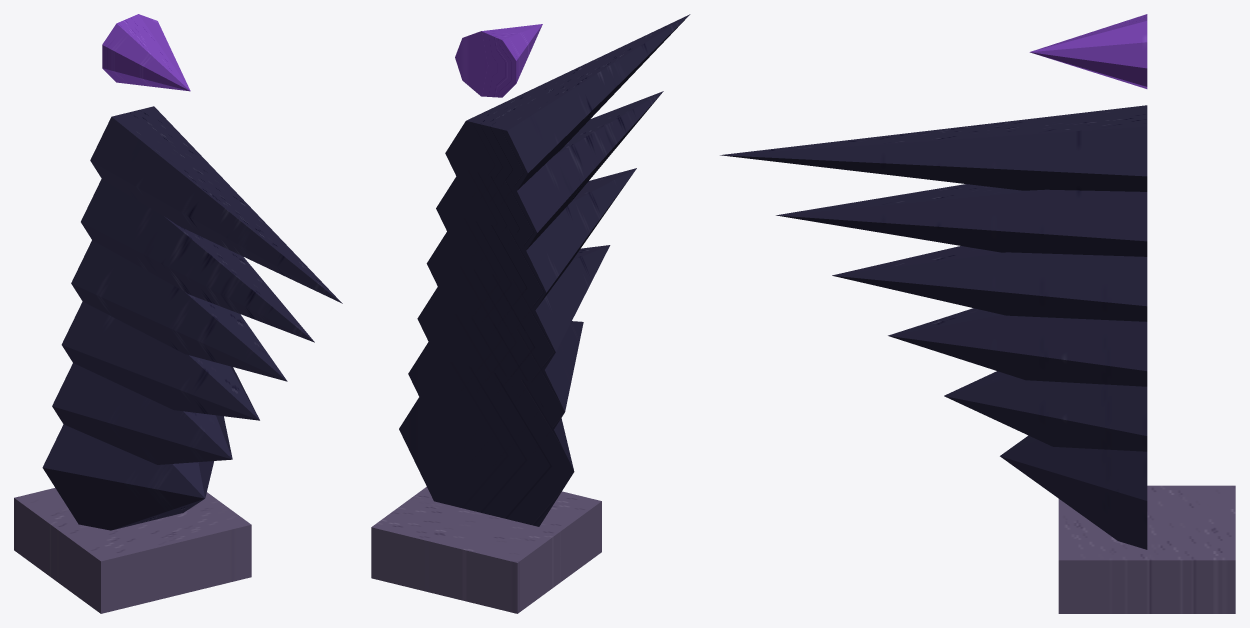
Rendered from spirit_obelisk_lod0.glb.
The picture shows the model from 3 angles, left to right: view 1: azimuth 30°, elevation 25°; view 2: azimuth 150°, elevation 25°; view 3: azimuth 270°, elevation 25°; orthographic projection. The views are drawn at different scales.
Visible parts, largest first — view 1: ash_0, obsidian_6, obsidian_5, obsidian_4, obsidian_1, obsidian_3, obsidian_2, rift_7; view 2: obsidian_1, ash_0, obsidian_3, obsidian_6, obsidian_4, obsidian_5, obsidian_2, rift_7; view 3: obsidian_6, ash_0, obsidian_5, obsidian_4, obsidian_3, obsidian_2, obsidian_1, rift_7.
Boxes of the visible parts, box(x1,y1,x2,y2) form: ash_0: box(14, 488, 251, 613); obsidian_6: box(90, 106, 342, 303); obsidian_5: box(81, 179, 314, 342); obsidian_4: box(71, 240, 287, 381); obsidian_1: box(42, 424, 213, 530); obsidian_3: box(61, 301, 259, 420); obsidian_2: box(52, 363, 232, 464); rift_7: box(102, 14, 190, 91); obsidian_1: box(399, 360, 574, 526); ash_0: box(371, 487, 601, 613); obsidian_3: box(417, 245, 610, 403); obsidian_6: box(445, 14, 690, 205); obsidian_4: box(426, 168, 636, 333); obsidian_5: box(436, 91, 663, 265); obsidian_2: box(408, 312, 583, 471); rift_7: box(455, 24, 542, 97); obsidian_6: box(720, 105, 1147, 191); ash_0: box(1058, 485, 1235, 613); obsidian_5: box(776, 184, 1147, 256); obsidian_4: box(832, 246, 1147, 321); obsidian_3: box(888, 308, 1147, 386); obsidian_2: box(944, 371, 1147, 451); obsidian_1: box(1000, 435, 1147, 549); rift_7: box(1029, 14, 1147, 88).
Size of the model in its own units: 3.6 by 10.44 by 8.75.
3 materials, 3 textured.
